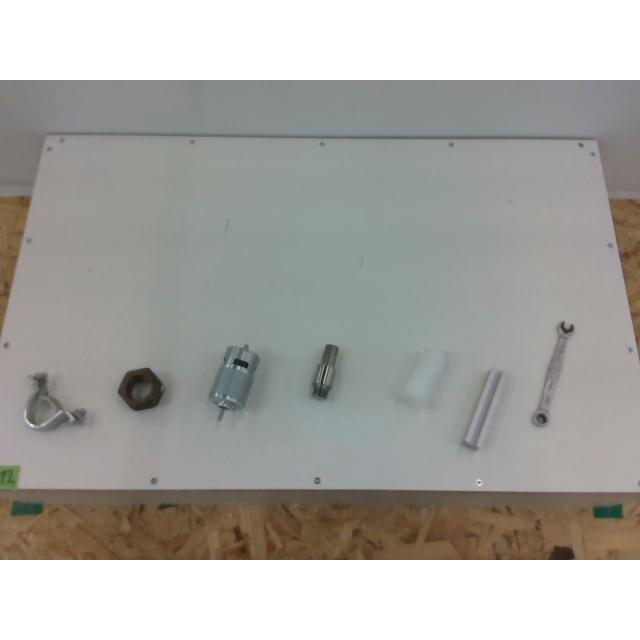Axis2: (312, 344, 338, 398)
F20_20_G: (462, 368, 506, 450)
Housing: (23, 372, 85, 430)
M30: (118, 366, 162, 409)
Motor2: (209, 344, 259, 420)
Spacer: (400, 348, 446, 408)
Wrench: (532, 322, 572, 426)
